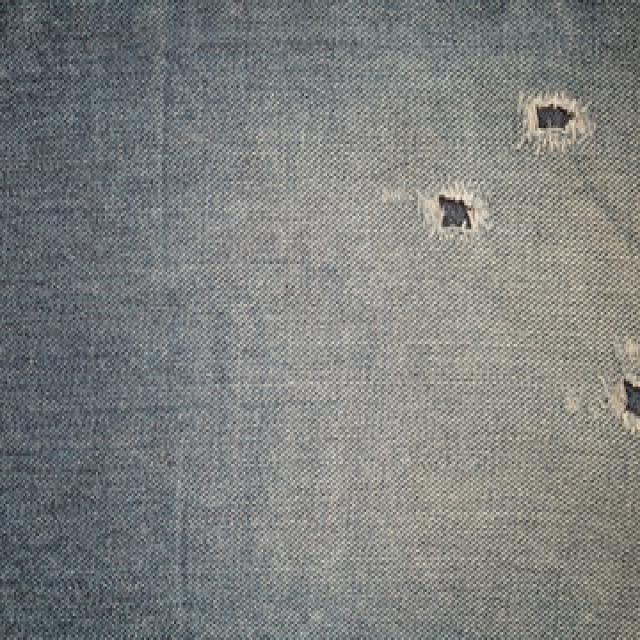Hole: (519, 91, 594, 154), (417, 180, 490, 240), (603, 337, 640, 434)
